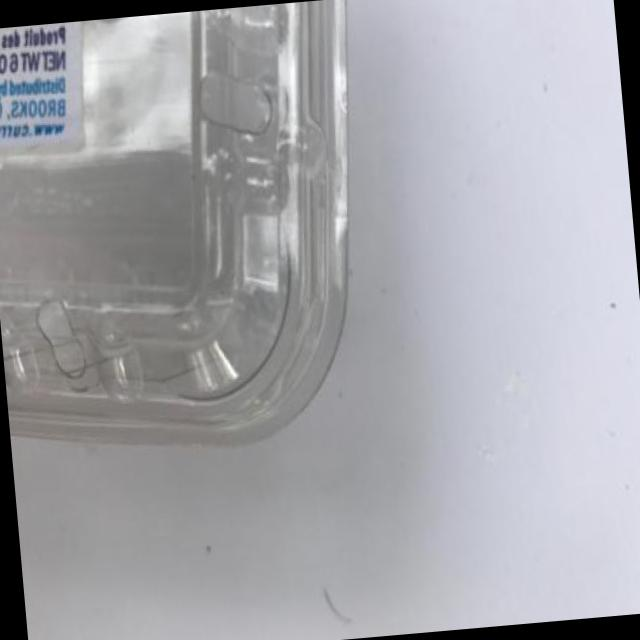Clamshell: (0, 0, 390, 462)
Label: (0, 21, 98, 164)
